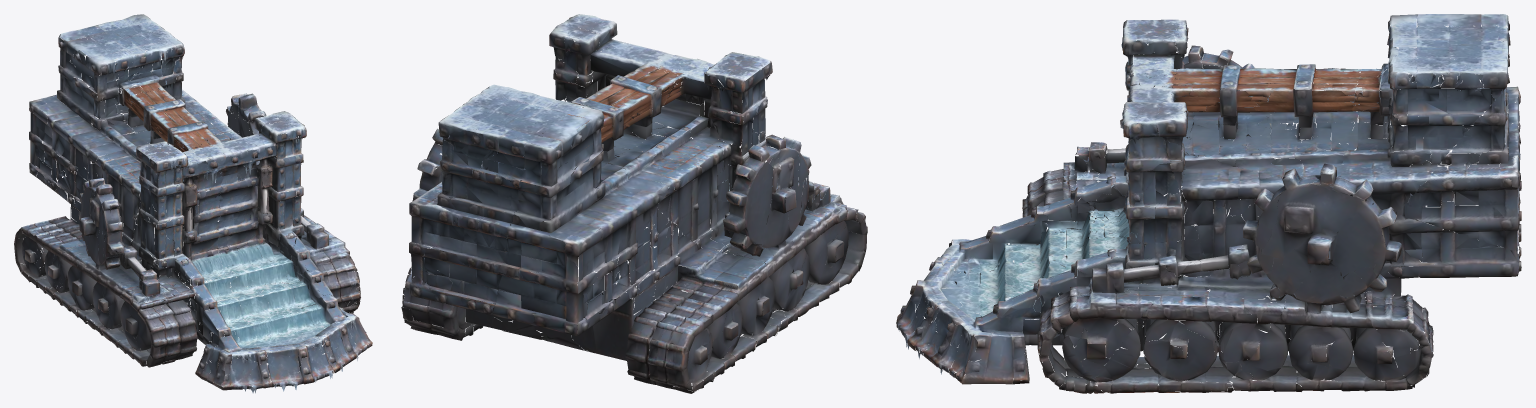
Rendered from spillway.glb.
3 views of the same model, side by side, from view 1: azimuth 30°, elevation 25°; view 2: azimuth 150°, elevation 25°; view 3: azimuth 270°, elevation 25° (orthographic). The views are drawn at different scales.
Visible parts, largest first — view 1: tripo_node_6b0050ed-b8b7-4383-8f8b-79c4aa634486; view 2: tripo_node_6b0050ed-b8b7-4383-8f8b-79c4aa634486; view 3: tripo_node_6b0050ed-b8b7-4383-8f8b-79c4aa634486.
Part boxes in pixels (x1,y1,x2,y2): tripo_node_6b0050ed-b8b7-4383-8f8b-79c4aa634486: (14, 14, 372, 393); tripo_node_6b0050ed-b8b7-4383-8f8b-79c4aa634486: (401, 14, 867, 393); tripo_node_6b0050ed-b8b7-4383-8f8b-79c4aa634486: (896, 14, 1521, 393).
Size of the model in its own units: 0.5914 by 0.5101 by 0.9796.
Materials: 1 (1 with a texture image).
